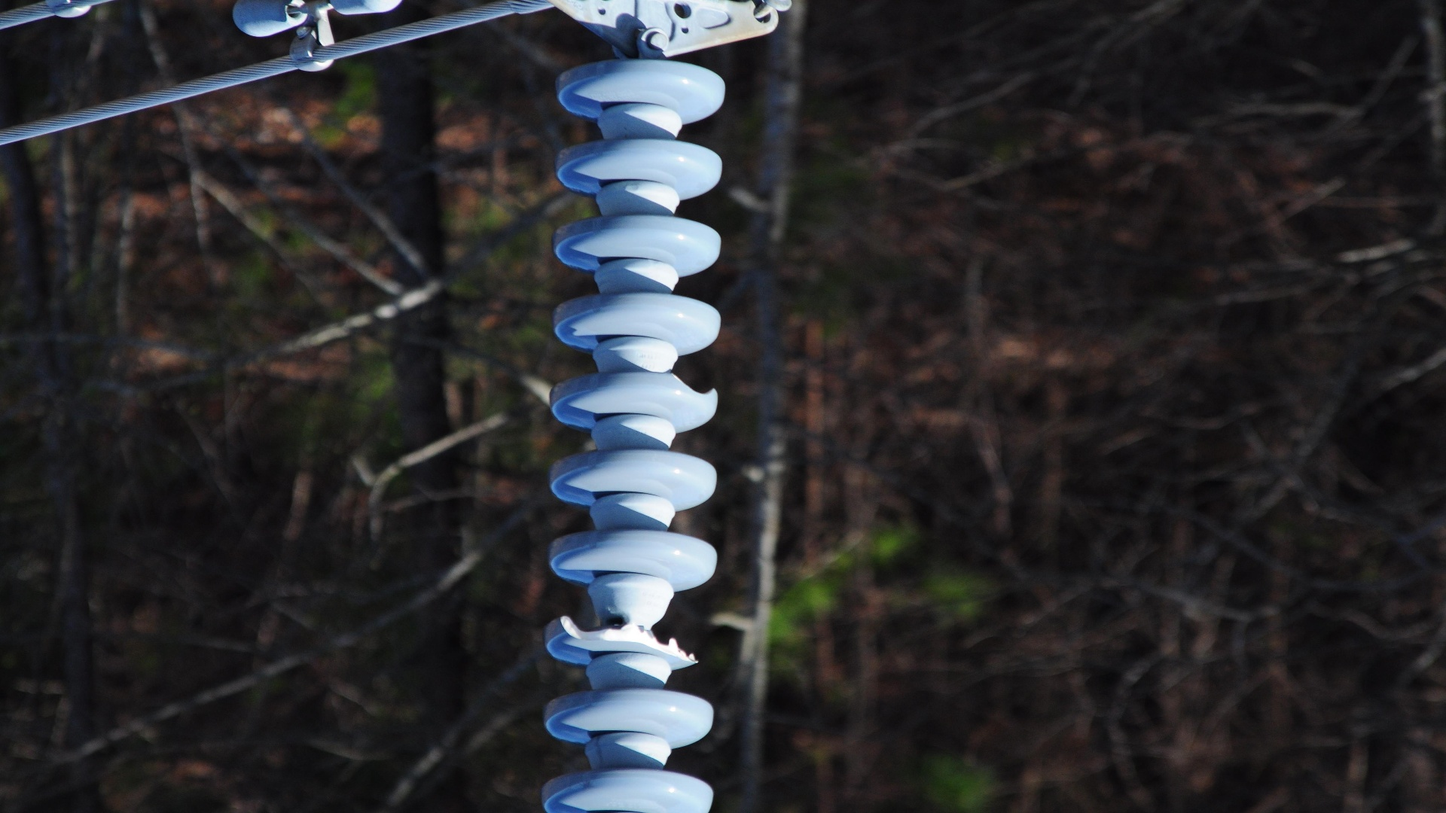insulator: (535, 53, 732, 813)
insulator_breakage: (555, 611, 702, 668), (664, 367, 720, 403)
